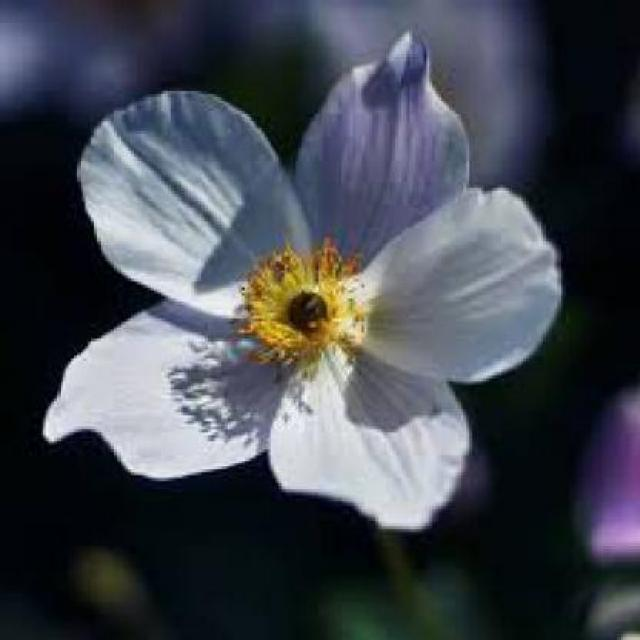Flower: (40, 31, 563, 532), (230, 237, 367, 372)
